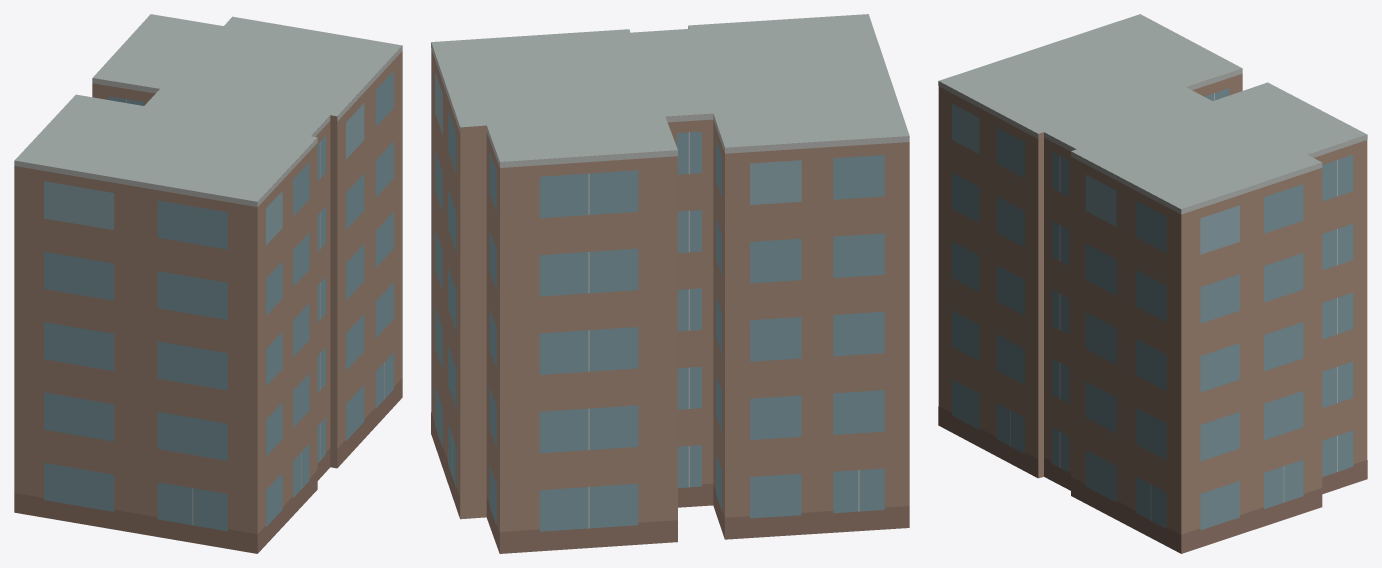
File: survey-upis-32761368.glb
3 views of the same model, side by side, from view 1: azimuth 30°, elevation 25°; view 2: azimuth 150°, elevation 25°; view 3: azimuth 270°, elevation 25° (orthographic). The views are drawn at different scales.
Parts seen in each view (by area): view 1: survey-upis-32761368.tmp; view 2: survey-upis-32761368.tmp; view 3: survey-upis-32761368.tmp.
Part boxes in pixels (<box>): survey-upis-32761368.tmp: <box>14,14,402,553</box>; survey-upis-32761368.tmp: <box>431,14,909,553</box>; survey-upis-32761368.tmp: <box>938,14,1367,553</box>.
Size of the model in its own units: 19.46 by 16 by 18.06.
